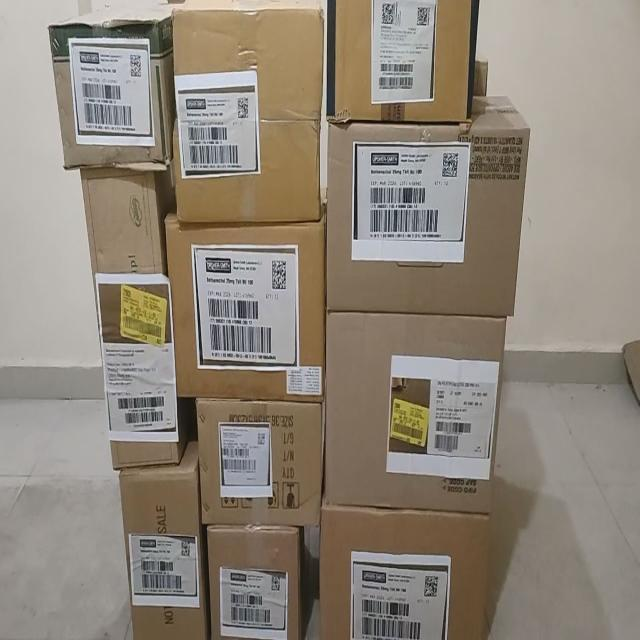BoxFace: (325, 91, 531, 316), (324, 310, 507, 514), (170, 2, 326, 224), (78, 165, 184, 469), (164, 208, 326, 399), (318, 494, 493, 638), (47, 6, 174, 172), (327, 0, 480, 124), (118, 441, 208, 637), (195, 396, 324, 526), (205, 523, 303, 638)
